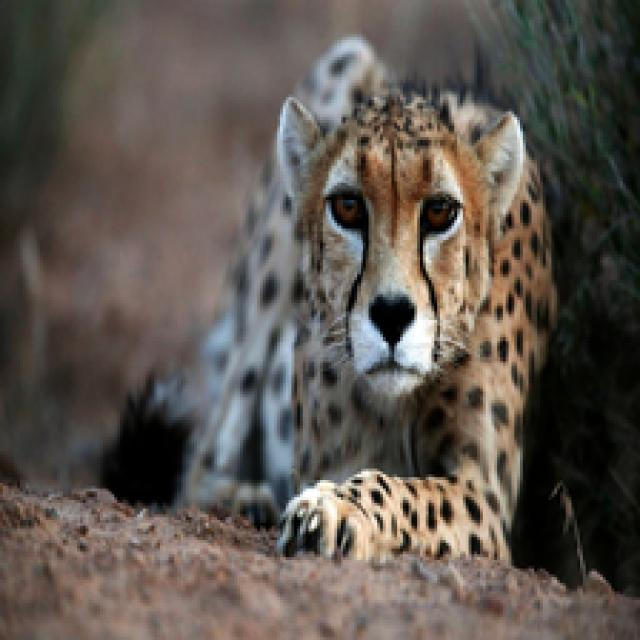cheetah: (130, 85, 550, 578)
